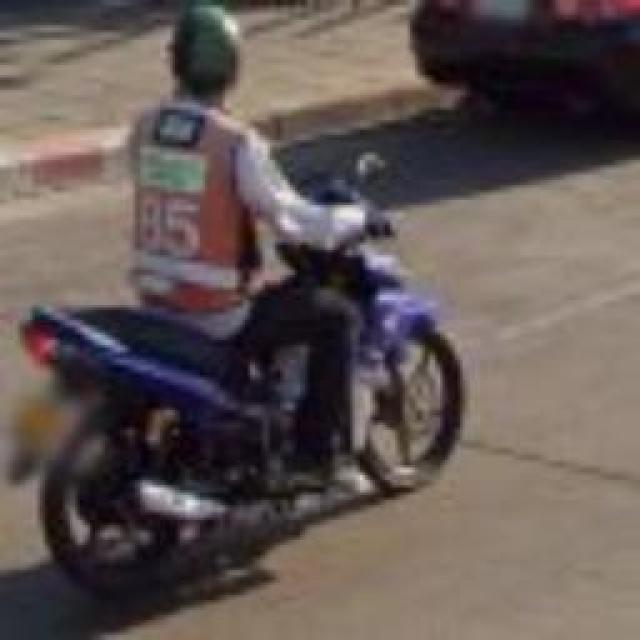car: (405, 0, 640, 168)
motorbike: (9, 8, 488, 617)
